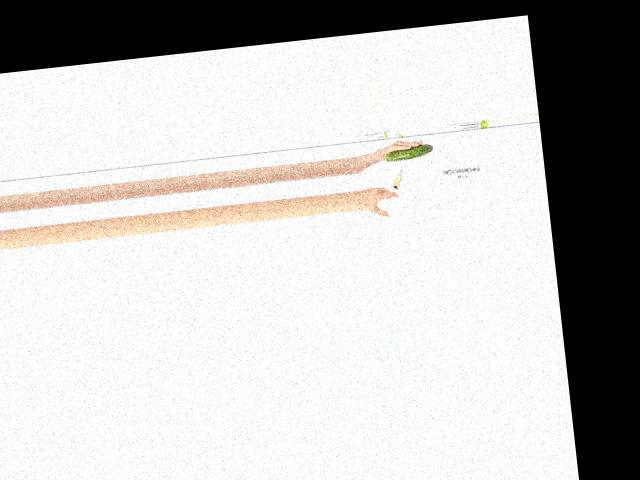cucumber: (384, 143, 433, 161)
